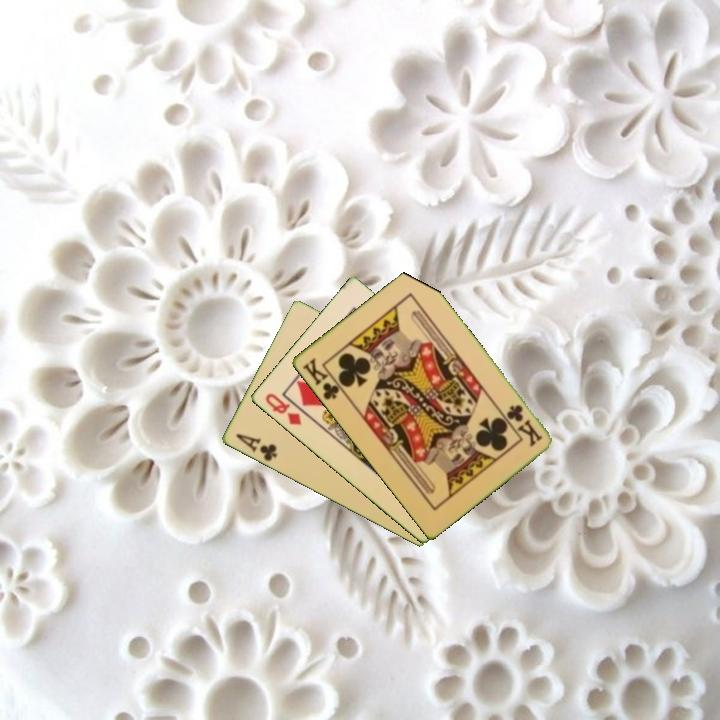Ac: (232, 430, 280, 464)
Kc: (298, 354, 347, 403), (502, 401, 545, 449)
Qd: (261, 389, 304, 428)
